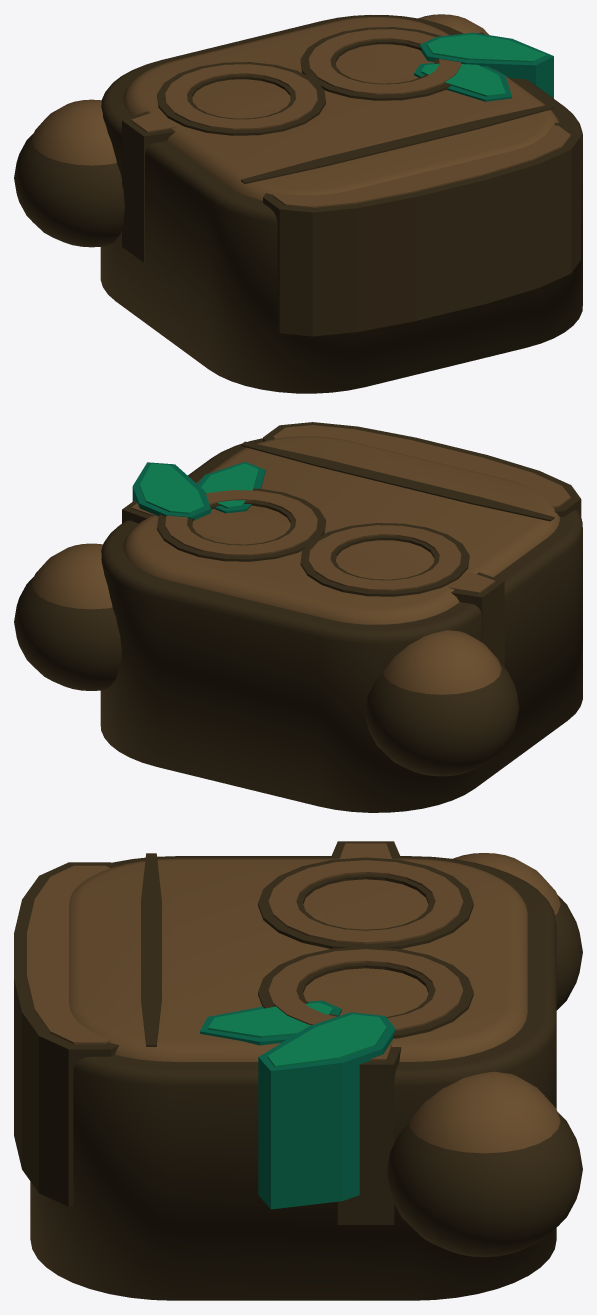
Rendered from body_explorador.fbx.
3 renders of one model, top to bottom at view 1: azimuth 30°, elevation 25°; view 2: azimuth 150°, elevation 25°; view 3: azimuth 270°, elevation 25°, orthographic. The views are drawn at different scales.
Parts seen in each view (by area): view 1: body_explorador_corpo, body_explorador_mao_esq, body_explorador_mao; view 2: body_explorador_corpo, body_explorador_mao_esq, body_explorador_mao; view 3: body_explorador_corpo, body_explorador_mao, body_explorador_mao_esq.
Boxes of the visible parts, x1,y1,x2,y2 form: body_explorador_corpo: [100, 15, 582, 393]; body_explorador_mao_esq: [14, 99, 124, 247]; body_explorador_mao: [418, 14, 488, 34]; body_explorador_corpo: [100, 422, 582, 812]; body_explorador_mao_esq: [365, 630, 519, 776]; body_explorador_mao: [14, 543, 121, 690]; body_explorador_corpo: [14, 841, 556, 1300]; body_explorador_mao: [386, 1071, 582, 1257]; body_explorador_mao_esq: [453, 853, 582, 1010].
Size of the model in its own units: 5.4 by 2.07 by 4.32.
1 material, 1 textured.
